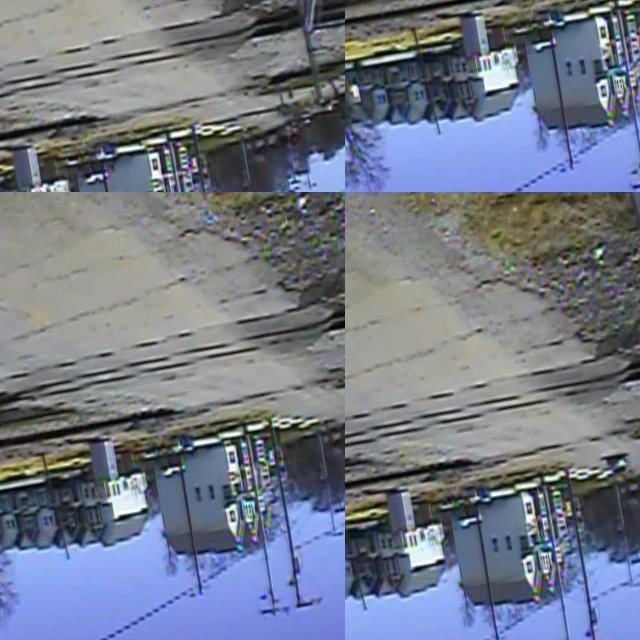barrier: (0, 526, 38, 640)
barrier-closed: (0, 94, 82, 164)
car: (511, 0, 627, 52), (600, 445, 633, 487)
rails: (0, 329, 345, 507), (0, 281, 345, 456), (0, 0, 345, 166), (345, 318, 640, 503), (345, 380, 640, 550), (0, 49, 345, 192), (345, 0, 640, 85), (345, 0, 640, 79)
traffic-signal: (345, 419, 381, 604), (0, 381, 36, 546), (345, 0, 377, 126), (0, 92, 32, 192), (266, 82, 305, 157), (331, 358, 345, 451)
